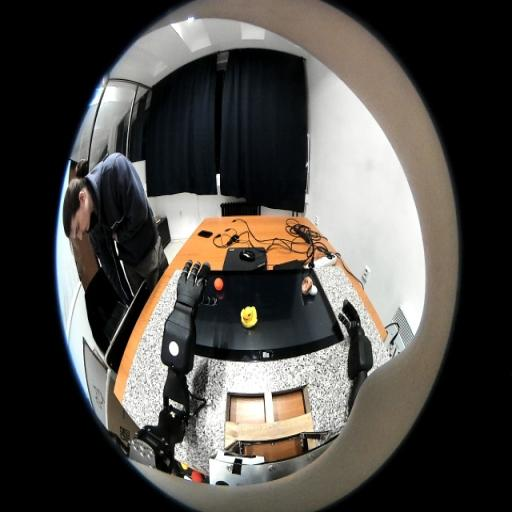Duck: (241, 306, 258, 327)
LeftHand: (177, 282, 201, 298)
Mushroom: (301, 276, 318, 295)
Orange: (214, 277, 224, 291)
RightHand: (348, 319, 361, 336)
